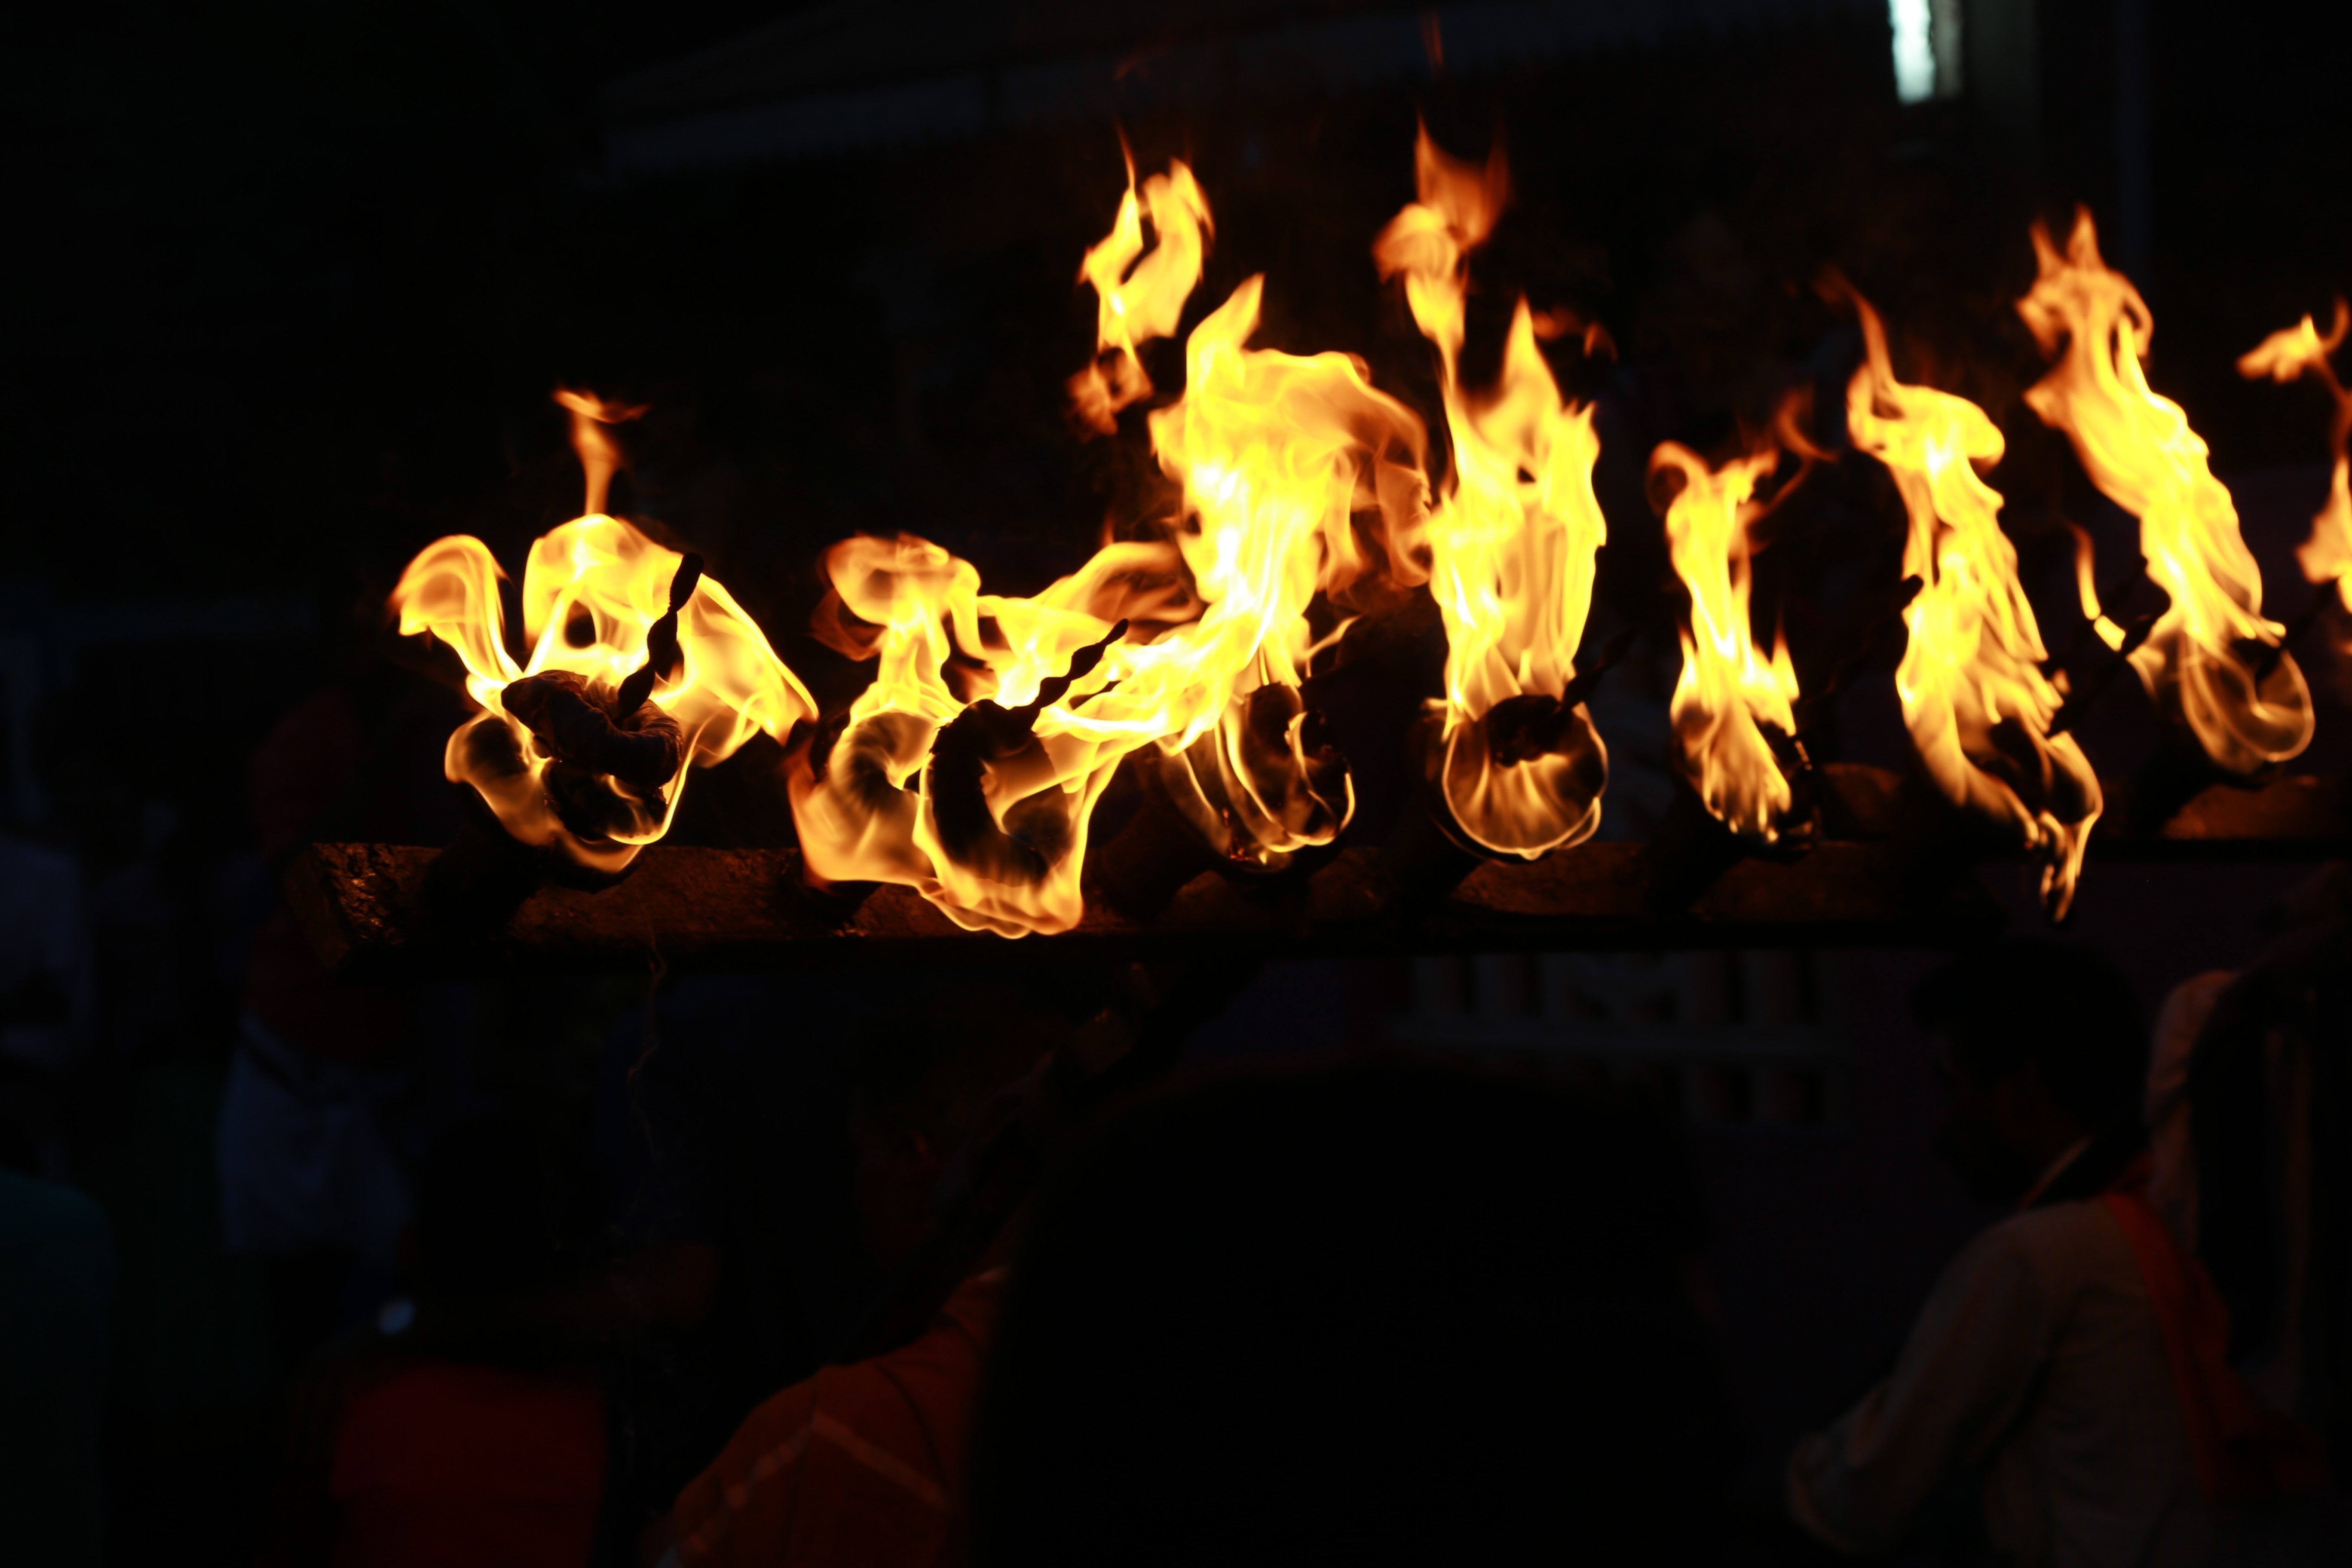fire: (784, 91, 2320, 892)
